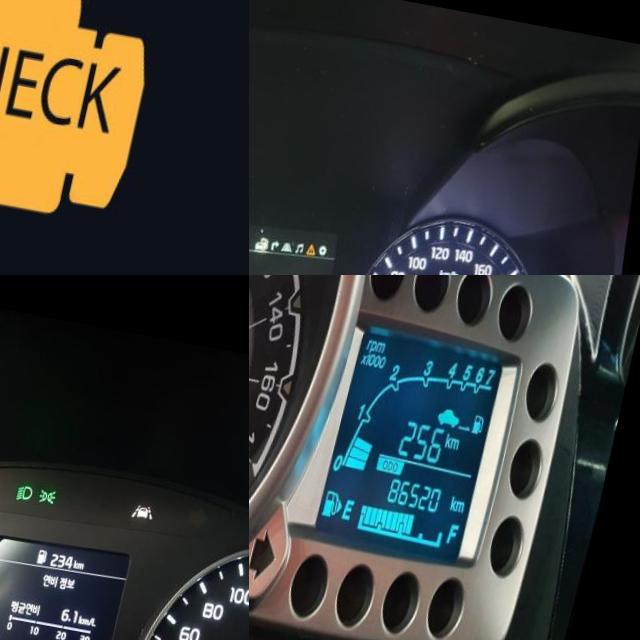LaneCenteringOff: (139, 486, 161, 503)
Low beam: (22, 471, 41, 489)
SideLamp: (45, 473, 64, 491)
